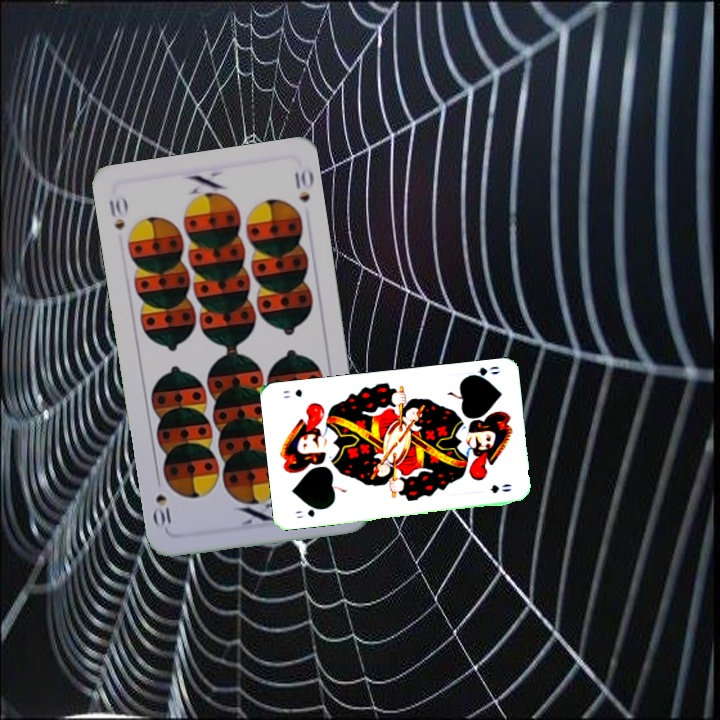GO: (462, 362, 503, 383), (291, 503, 328, 521)
S10: (105, 192, 130, 232)
